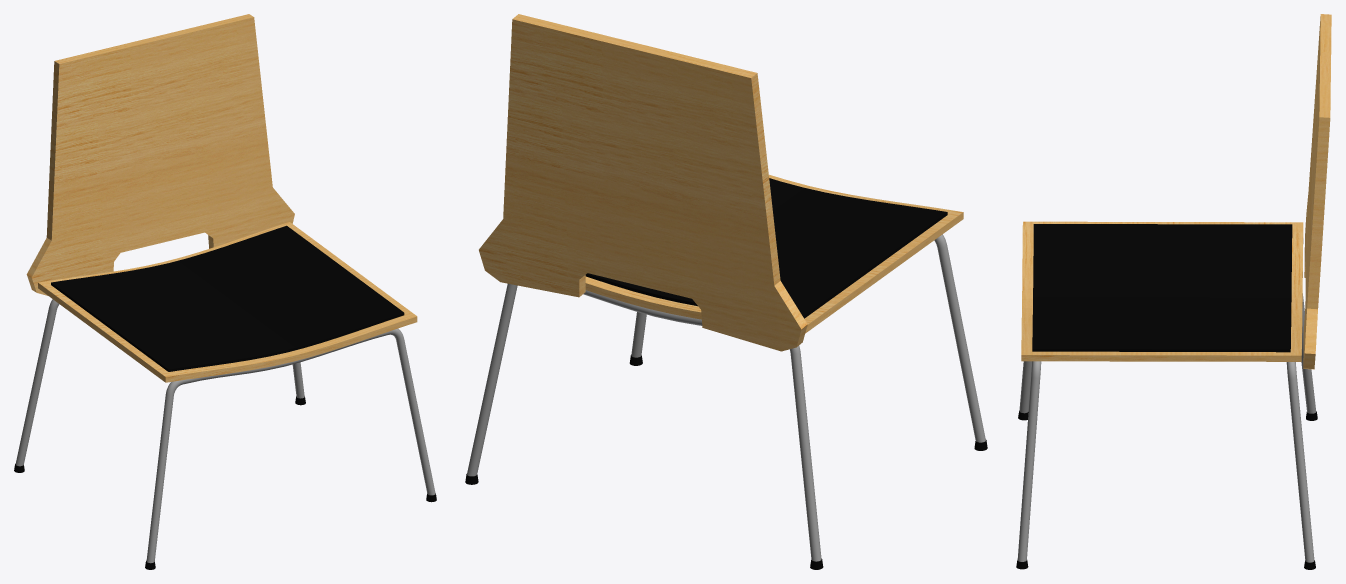
The model's file is Fritz_chair-3D.DAE.
3 views of the same model, side by side, from view 1: azimuth 30°, elevation 25°; view 2: azimuth 150°, elevation 25°; view 3: azimuth 270°, elevation 25° (orthographic). The views are drawn at different scales.
Parts seen in each view (by area): view 1: Cylinder01; view 2: Cylinder01; view 3: Cylinder01.
Part boxes in pixels (x1,y1,x2,y2): Cylinder01: (14,14,436,569); Cylinder01: (465,14,987,569); Cylinder01: (1016,14,1331,569).
Bounding box in the file's own units: 665 × 859 × 573.
